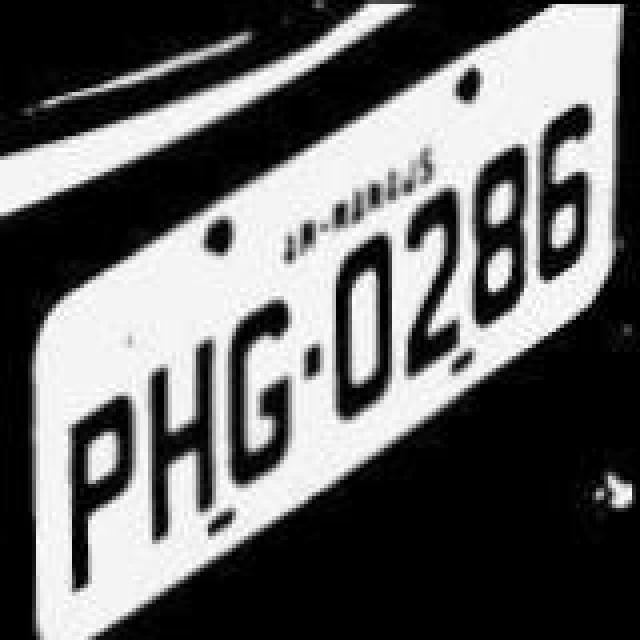2: (396, 182, 468, 386)
6: (528, 102, 600, 298)
8: (464, 138, 536, 338)
G: (226, 292, 306, 496)
H: (136, 328, 224, 544)
O: (328, 232, 400, 428)
P: (60, 386, 140, 590)
